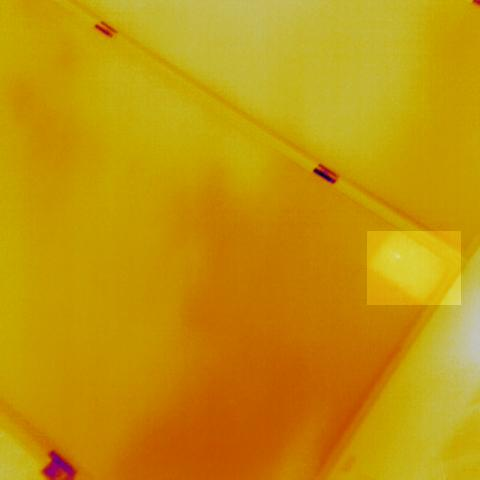fault: (367, 231, 461, 306)
